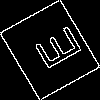E: (25, 24, 84, 76)
